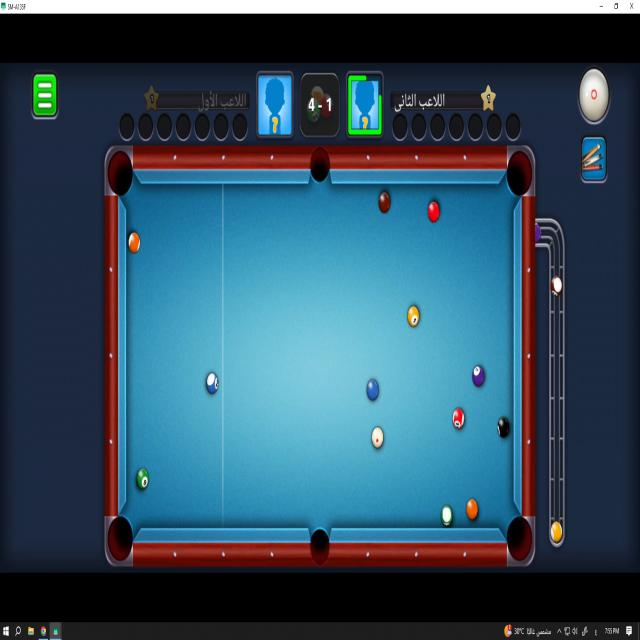object_ball: (472, 365, 484, 387), (379, 192, 390, 213), (408, 306, 419, 327), (367, 380, 378, 401), (207, 373, 218, 394), (453, 408, 464, 429), (441, 505, 452, 526), (129, 233, 140, 253), (498, 417, 509, 437), (137, 469, 148, 489), (466, 499, 477, 519), (428, 202, 439, 222)
white_cue_ball: (372, 427, 383, 447)
